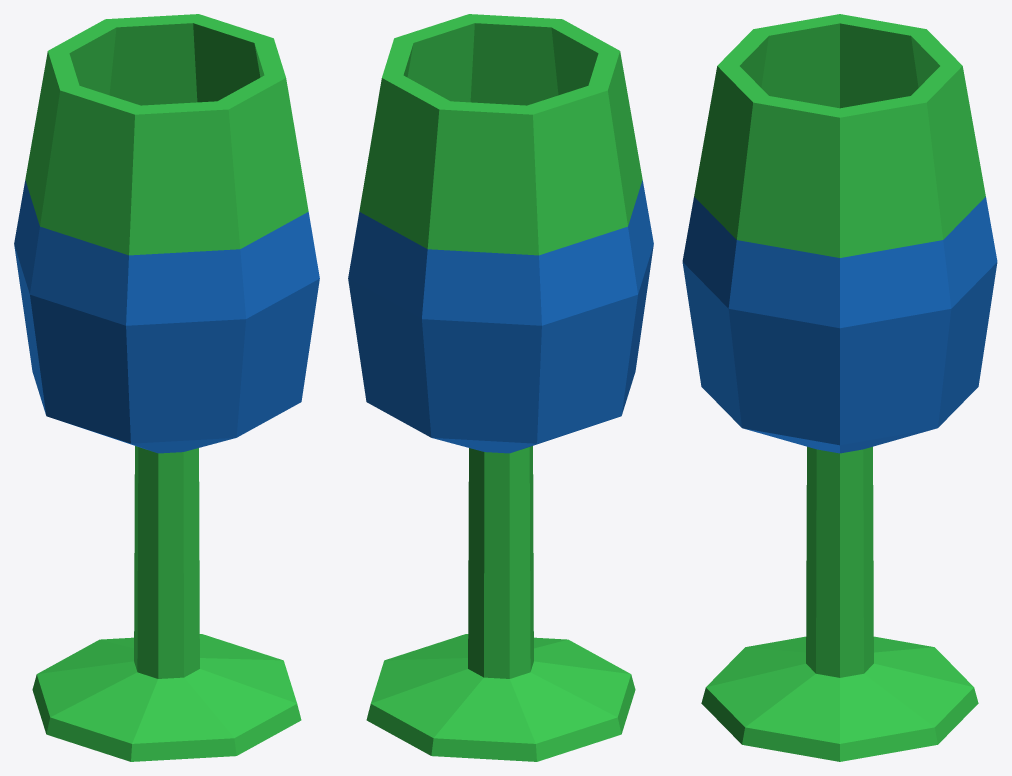
The model's file is SM_wine_glass1.fbx.
The picture shows the model from 3 angles, left to right: view 1: azimuth 30°, elevation 25°; view 2: azimuth 150°, elevation 25°; view 3: azimuth 270°, elevation 25°; orthographic projection.
Parts seen in each view (by area): view 1: wine_glass1; view 2: wine_glass1; view 3: wine_glass1.
Part boxes in pixels (x1,y1,x2,y2): wine_glass1: (14,14,319,761); wine_glass1: (348,14,653,761); wine_glass1: (682,14,997,761).
Bounding box in the file's own units: 9.91 × 22.12 × 9.91.
